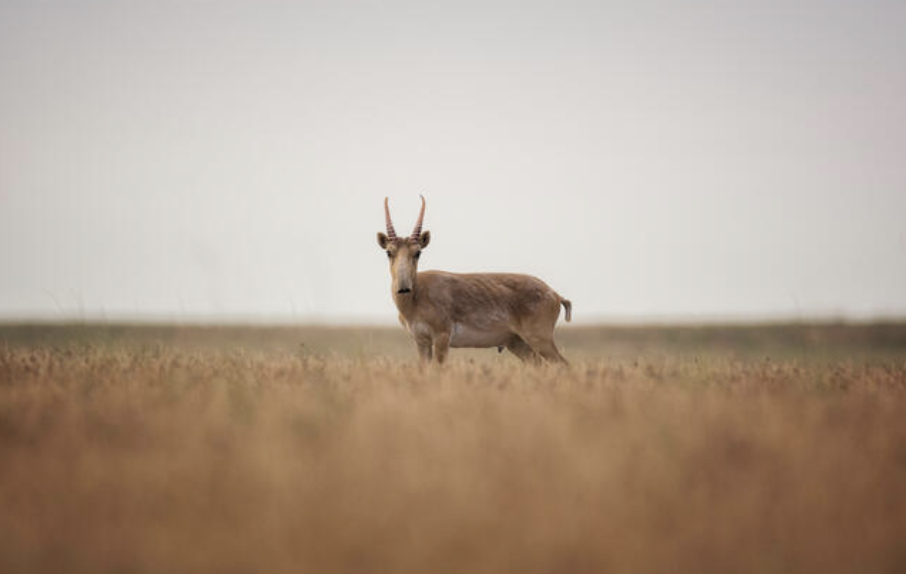saiga: (359, 185, 585, 374)
